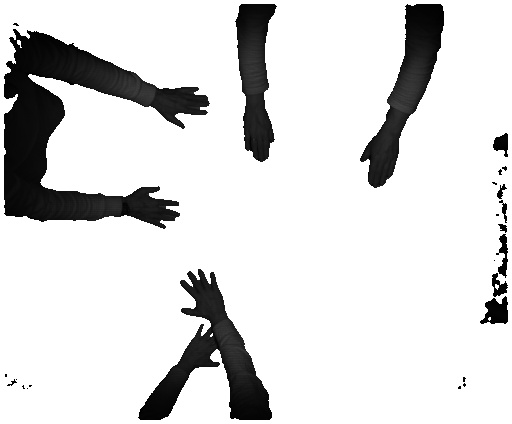hand: (176, 264, 226, 323), (157, 87, 215, 135), (128, 184, 183, 231), (360, 133, 404, 191), (180, 326, 224, 370), (244, 112, 279, 167)
